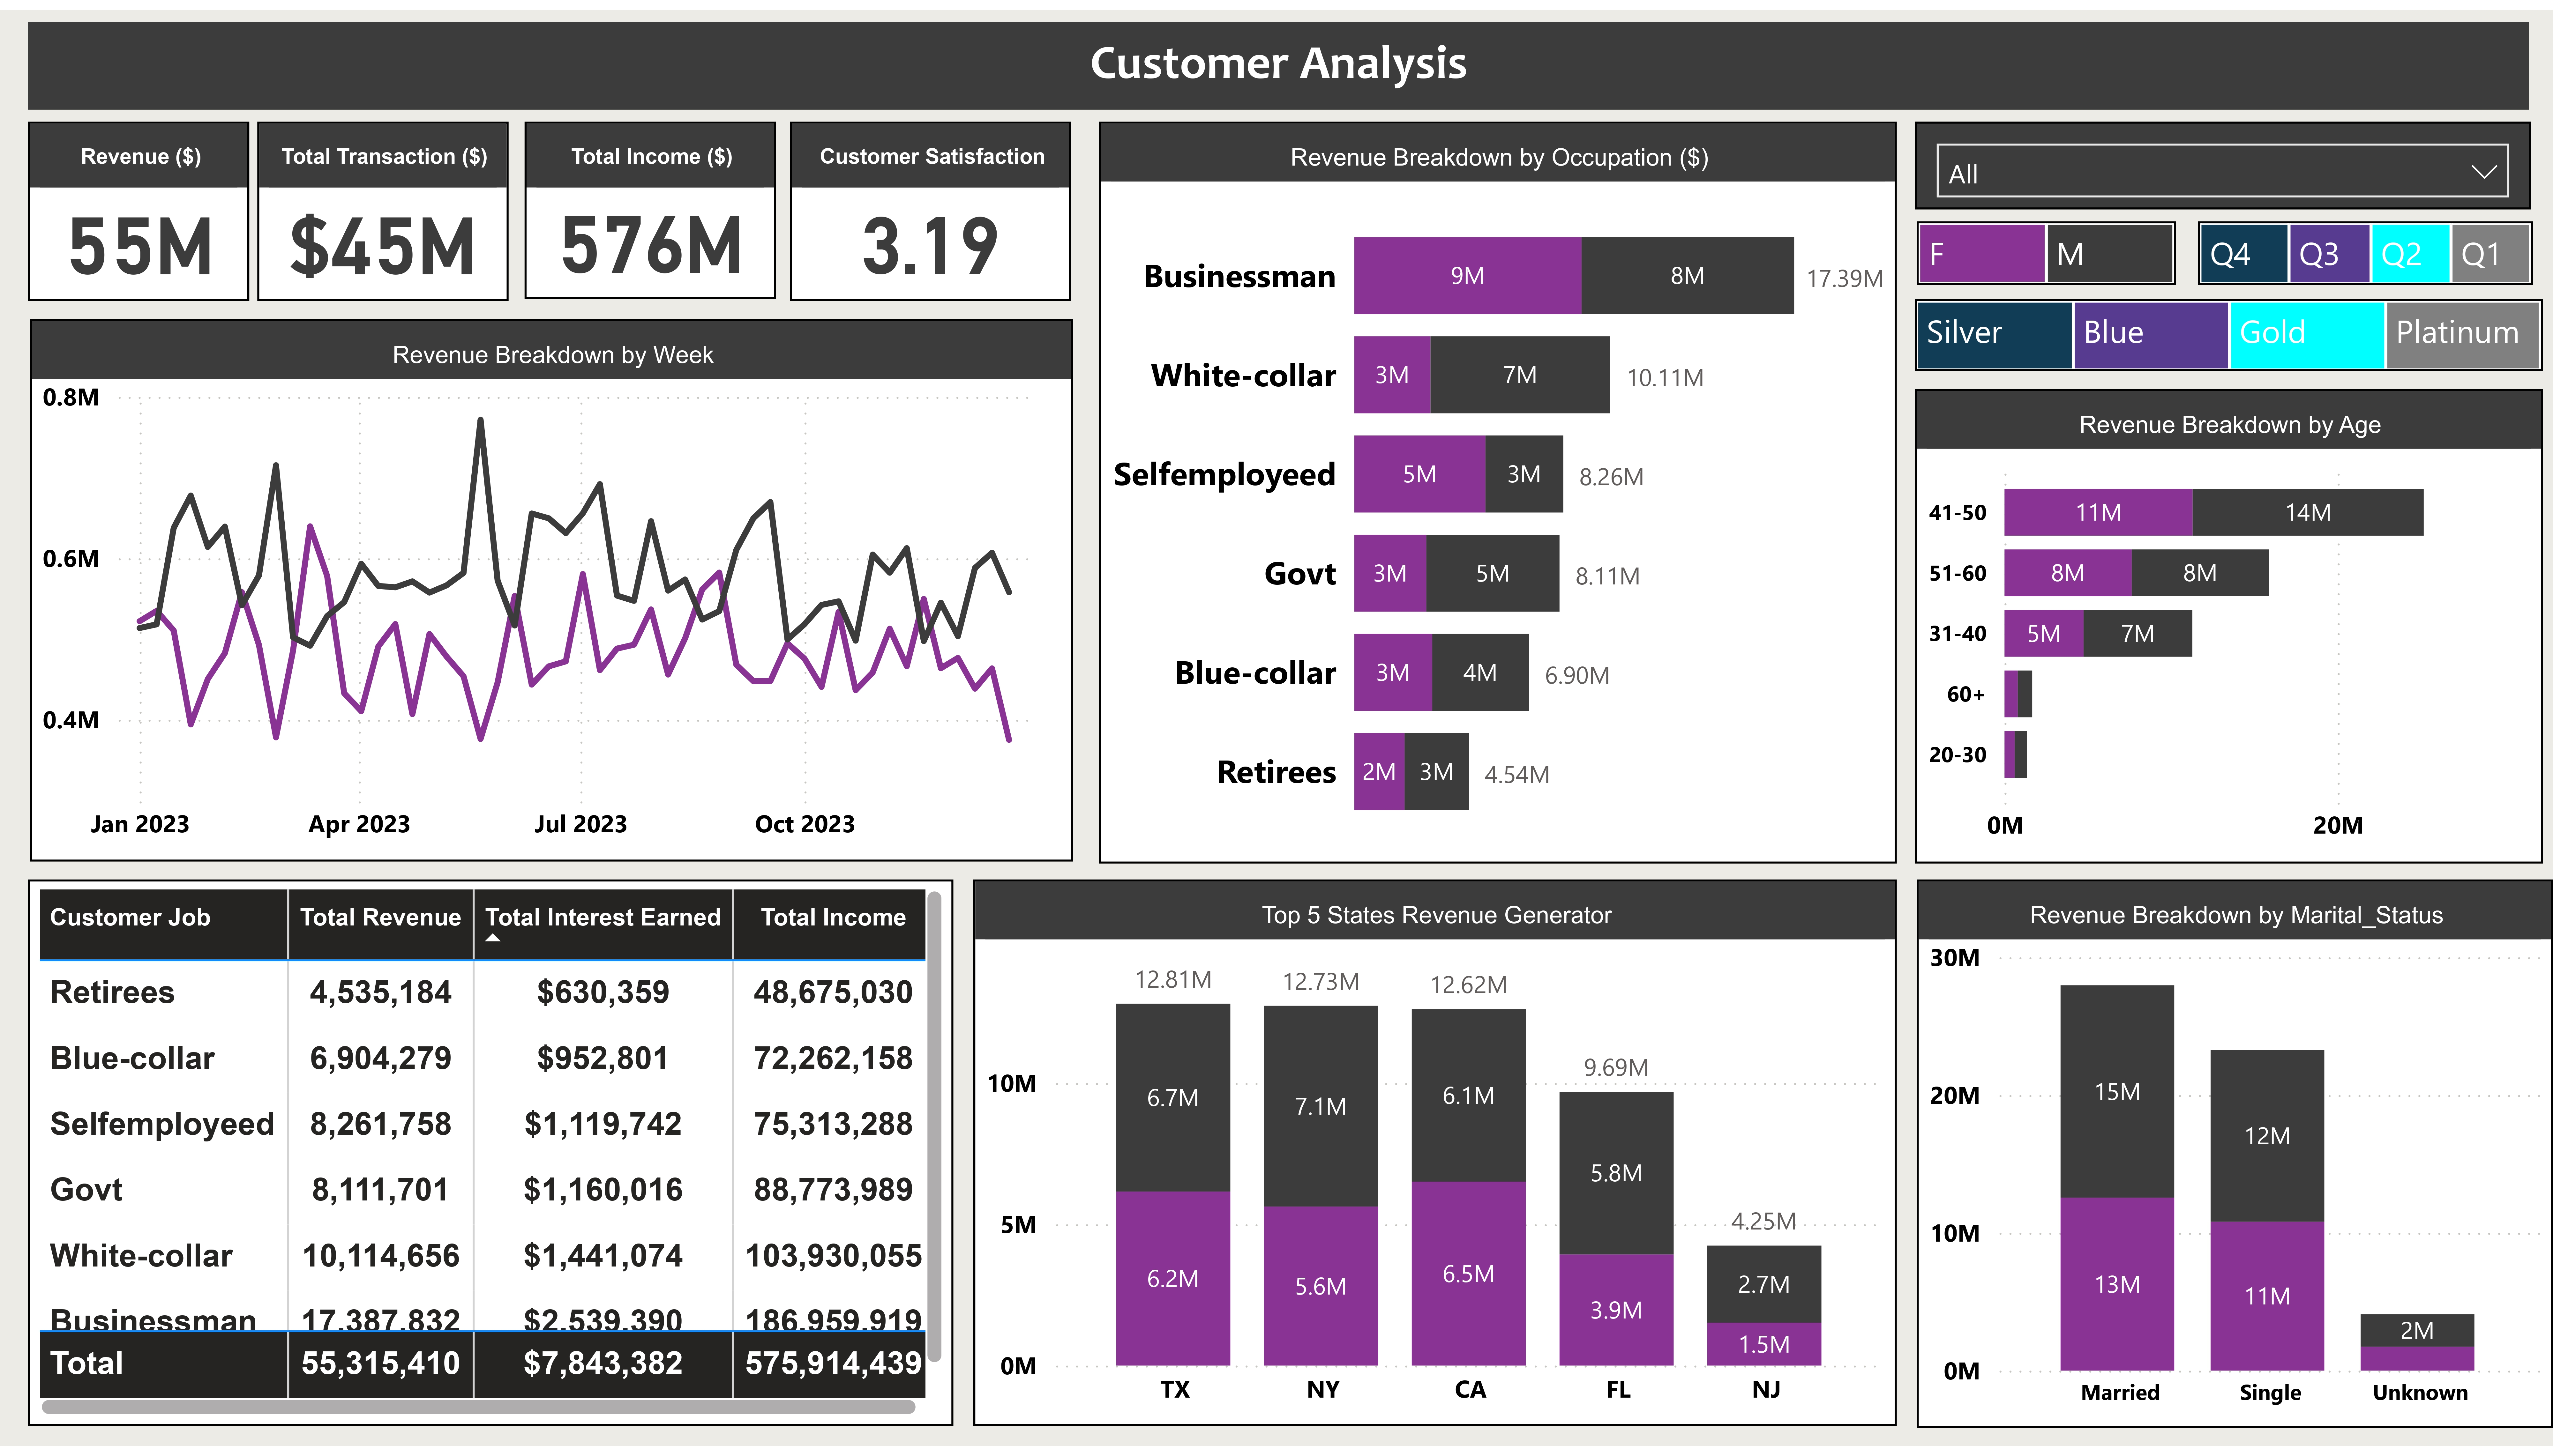

Layout of this report page (visuals, bound fields, positions):
{"tool":"powerbi","page":{"name":"Customers Analysis","canvas":[1280,720],"ordinal":3},"visuals":[{"type":"tableEx","fields":{"Values":["customer.Customer_Job","Sum(credit_card.Revenue)","Sum(credit_card.Interest_Earned)","Sum(customer.Income)"]},"box":[14.4,436.1,463.9,274.2],"z":0},{"type":"card","title":"Revenue ($)","fields":{"Values":["Sum(credit_card.Revenue)"]},"box":[14.3,55.7,111.4,90],"z":1000},{"type":"card","title":"Total Transaction ($)","fields":{"Values":["Sum(credit_card.Total_Trans_Amt)"]},"box":[128.6,55.7,125.7,90],"z":2000},{"type":"card","title":"Total Income ($)","fields":{"Values":["Sum(customer.Income)"]},"box":[262.9,55.7,125.8,88.7],"z":3000},{"type":"card","title":"Customer Satisfaction","fields":{"Values":["Avg(customer.Cust_Satisfaction_Score)"]},"box":[395.9,55.7,141.2,89.7],"z":4000},{"type":"slicer","fields":{"Values":["credit_card.Week_Start_Date"]},"box":[960.4,56.2,309.4,43.8],"z":5000},{"type":"lineChart","title":"Revenue Breakdown by Week","fields":{"Y":["Sum(credit_card.Revenue)"],"Series":["customer.Gender"],"Category":["credit_card.Week_Start_Date.Variation.Date Hierarchy.Year","credit_card.Week_Start_Date.Variation.Date Hierarchy.Quarter","credit_card.Week_Start_Date.Variation.Date Hierarchy.Month","credit_card.Week_Start_Date.Variation.Date Hierarchy.Day"]},"box":[14.6,155.2,522.9,271.9],"z":6000},{"type":"barChart","title":"Revenue Breakdown by Age","fields":{"Category":["customer.AgeGroup"],"Y":["Sum(credit_card.Revenue)"],"Series":["customer.Gender"]},"box":[960.4,189.6,314.6,237.5],"z":7000},{"type":"columnChart","title":"Top 5 States Revenue Generator","fields":{"Category":["customer.state_cd"],"Y":["Sum(credit_card.Revenue)"],"Series":["customer.Gender"]},"box":[487.6,436.1,462.9,274.2],"z":8000},{"type":"textbox","box":[14.3,5.7,1254.3,44.3],"z":9000},{"type":"treemap","fields":{"Group":["credit_card.Qtr"],"Values":["Avg(credit_card.Client_Num)"]},"box":[1102.1,106.2,167.7,32.3],"z":10000},{"type":"treemap","fields":{"Values":["Avg(credit_card.Client_Num)"],"Group":["customer.Gender"]},"box":[960.8,106.2,129.9,32],"z":11000},{"type":"treemap","fields":{"Values":["Avg(credit_card.Client_Num)"],"Group":["credit_card.Card_Category"]},"box":[960.4,144.8,314.6,36.5],"z":12000},{"type":"barChart","title":"Revenue Breakdown by Occupation ($)","fields":{"Y":["Sum(credit_card.Revenue)"],"Category":["customer.Customer_Job"],"Series":["customer.Gender"]},"box":[551,55.8,399.7,371.8],"z":13000},{"type":"columnChart","title":"Revenue Breakdown by Marital_Status","fields":{"Category":["customer.Marital_Status"],"Y":["Sum(credit_card.Revenue)"],"Series":["customer.Gender"]},"box":[961,436.4,318.9,274.8],"z":14001}]}

Visuals, with their boxes in screenshot pixels (x1, y1, x2, y2), scaled from the page's 1280x720 canvas onto the 2553x1456 screenshot:
tableEx - customer.Customer_Job x Sum(credit_card.Revenue): region(29, 882, 954, 1437)
"Revenue ($)" card: region(28, 113, 251, 295)
"Total Transaction ($)" card: region(257, 113, 507, 295)
"Total Income ($)" card: region(524, 113, 775, 292)
"Customer Satisfaction" card: region(790, 113, 1071, 294)
slicer - credit_card.Week_Start_Date: region(1915, 114, 2533, 202)
"Revenue Breakdown by Week" lineChart: region(29, 314, 1072, 864)
"Revenue Breakdown by Age" barChart: region(1915, 383, 2543, 864)
"Top 5 States Revenue Generator" columnChart: region(973, 882, 1896, 1437)
textbox: region(28, 11, 2530, 101)
treemap - credit_card.Qtr x Avg(credit_card.Client_Num): region(2198, 215, 2533, 280)
treemap - Avg(credit_card.Client_Num) x customer.Gender: region(1916, 215, 2175, 279)
treemap - Avg(credit_card.Client_Num) x credit_card.Card_Category: region(1915, 293, 2543, 367)
"Revenue Breakdown by Occupation ($)" barChart: region(1099, 113, 1896, 865)
"Revenue Breakdown by Marital_Status" columnChart: region(1917, 882, 2553, 1438)
